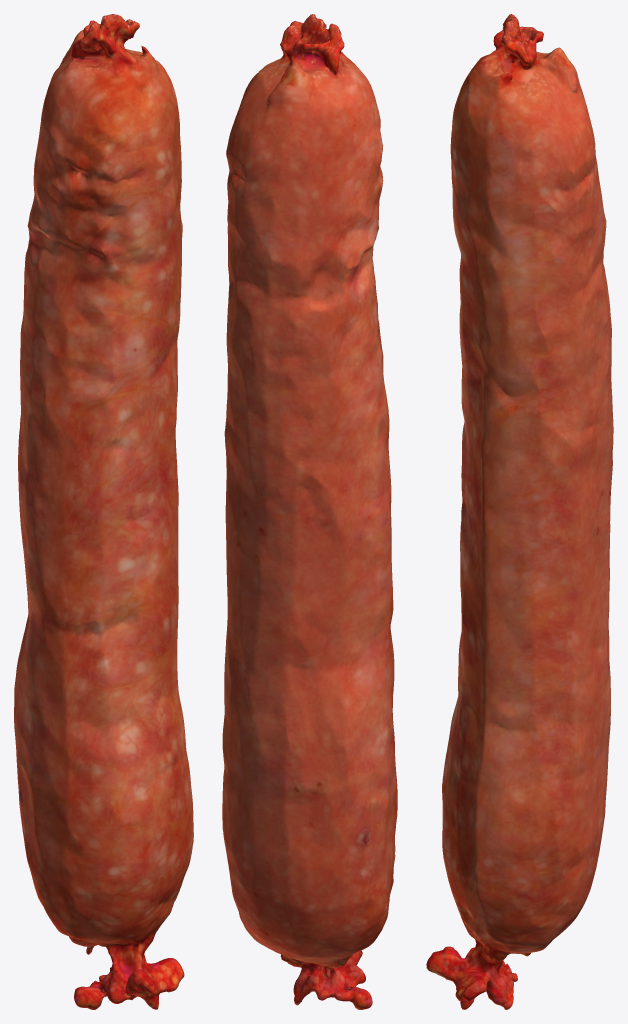
File: salame_piccante.glb
3 renders of one model, left to right at view 1: azimuth 30°, elevation 25°; view 2: azimuth 150°, elevation 25°; view 3: azimuth 270°, elevation 25°, orthographic.
Size of the model in its own units: 0.3144 by 1.99 by 0.3434.
Materials: 1 (1 with a texture image).
